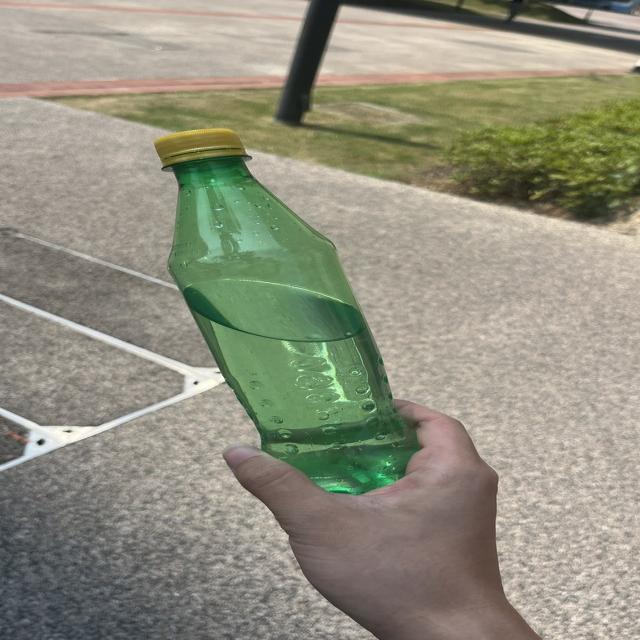medium: (155, 128, 418, 494)
